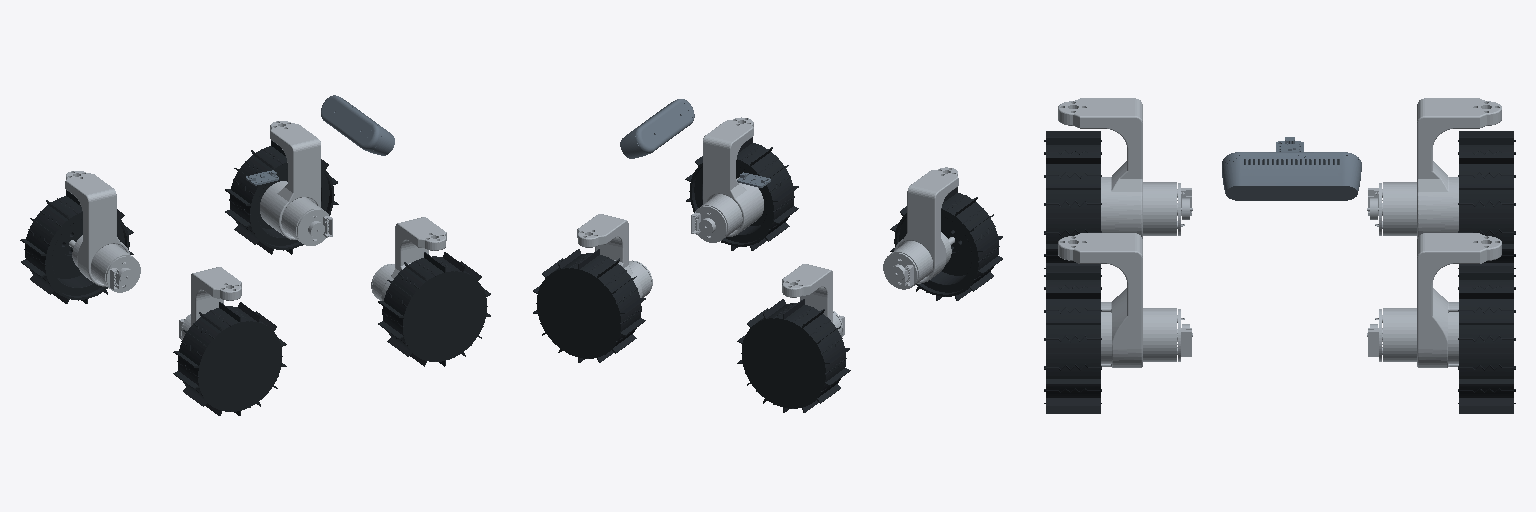
The robot description file, URDF, robot "rover":
<?xml version='1.0' encoding='utf-8'?>
<robot name="rover">
  <!-- Measured masses; approximate inertia, collision, limits and motor ratings. See config/model.json. -->
  <link name="base_link">
    <inertial>
      <origin xyz="0.00644967329592 0.000243242209539 -0.0339474125033" rpy="0 0 0" />
      <mass value="0.7918999999999999" />
      <inertia ixx="0.001909431615532285" iyy="0.0032101804416144707" izz="0.004528382075789804" ixy="-1.9881943002105715e-05" ixz="9.94823399427369e-05" iyz="1.4959653956675958e-05" />
    </inertial>
    <visual>
      <origin xyz="0 0 0" rpy="0 0 0" />
      <geometry>
        <mesh filename="package://rover_description/meshes/base_link.stl" />
      </geometry>
      <material name="base_link_material">
        <color rgba="0.7 0.73 0.76 1" />
      </material>
    </visual>
    <collision name="base_link_collision_0">
      <origin xyz="-0.005 0 -0.0239999997616" rpy="0 0 0" />
      <geometry>
        <box size="0.23 0.17 0.0879999995232" />
      </geometry>
    </collision>
    <collision name="base_link_collision_1">
      <origin xyz="0.0244377458561 -0.0148750001192 -0.048800002492" rpy="0 0 0" />
      <geometry>
        <box size="0.113224513624 0.0631499993801 0.0284000003338" />
      </geometry>
    </collision>
    <collision name="base_link_collision_2">
      <origin xyz="-0.00773000001907 0.0541699981689 -0.0322500003939" rpy="0 0 0" />
      <geometry>
        <box size="0.0482600021362 0.0416599988937 0.0114999997616" />
      </geometry>
    </collision>
    <collision name="base_link_collision_3">
      <origin xyz="-0.0509100008011 0.0541699981689 -0.0187499965792" rpy="0 0 0" />
      <geometry>
        <box size="0.0482600021362 0.0416599988937 0.0114999997616" />
      </geometry>
    </collision>
    <collision name="base_link_collision_4">
      <origin xyz="0.0734050011635 0.0276300001144 -0.0281510843401" rpy="0 0 0" />
      <geometry>
        <box size="0.0571899986267 0.0890399980545 0.0337874209881" />
      </geometry>
    </collision>
    <collision name="base_link_collision_5">
      <origin xyz="-0.026859998703 -0.0375 -0.0300000004272" rpy="0 0 0" />
      <geometry>
        <box size="0.0825 0.07 0.02" />
      </geometry>
    </collision>
    <collision name="base_link_collision_6">
      <origin xyz="-0.0215899991989 -0.0447100019455 -0.0257500042086" rpy="0 0 0" />
      <geometry>
        <box size="0.0482600021362 0.0416599988937 0.0114999997616" />
      </geometry>
    </collision>
    <collision name="base_link_collision_7">
      <origin xyz="0.0425490000844 -0.0263399982452 -0.00244000271606" rpy="0 0 0" />
      <geometry>
        <box size="0.0158499997854 0.0673099994659 0.0388619995117" />
      </geometry>
    </collision>
  </link>
  <link name="left_rocker_link">
    <inertial>
      <origin xyz="-1.96512358754e-06 0.0404127009788 -0.0221390723934" rpy="0 0 0" />
      <mass value="0.1862" />
      <inertia ixx="8.666660545120629e-05" iyy="0.0011983101518448112" izz="0.0012067950674906668" ixy="3.2713165345640206e-09" ixz="-1.6017981258213376e-09" iyz="2.4807897206100384e-05" />
    </inertial>
    <visual>
      <origin xyz="0 0 0" rpy="0 0 0" />
      <geometry>
        <mesh filename="package://rover_description/meshes/left_rocker_link.stl" />
      </geometry>
      <material name="left_rocker_link_material">
        <color rgba="0.7 0.73 0.76 1" />
      </material>
    </visual>
    <collision name="left_rocker_link_collision_0">
      <origin xyz="0 0.0275 -0.0124653096561" rpy="0 0 0" />
      <geometry>
        <box size="0.235862789154 0.075 0.0647104144096" />
      </geometry>
    </collision>
    <collision name="left_rocker_link_collision_1">
      <origin xyz="-0.0899313926697 0.0475 -0.0264439971809" rpy="0 0 0" />
      <geometry>
        <box size="0.0452234077454 0.0247234082222 0.0424314928055" />
      </geometry>
    </collision>
    <collision name="left_rocker_link_collision_2">
      <origin xyz="0.0899313926697 0.0475 -0.0264439971809" rpy="0 0 0" />
      <geometry>
        <box size="0.0452234077454 0.0247234082222 0.0424314928055" />
      </geometry>
    </collision>
  </link>
  <link name="right_rocker_link">
    <inertial>
      <origin xyz="1.94316414914e-06 -0.0404283017018 -0.0220823770754" rpy="0 0 0" />
      <mass value="0.1862" />
      <inertia ixx="8.650089899194938e-05" iyy="0.0011965483799196736" izz="0.0012046835159321599" ixy="3.2952114428350772e-09" ixz="1.6044542867014414e-09" iyz="-2.471970044671573e-05" />
    </inertial>
    <visual>
      <origin xyz="0 0 0" rpy="0 0 0" />
      <geometry>
        <mesh filename="package://rover_description/meshes/right_rocker_link.stl" />
      </geometry>
      <material name="right_rocker_link_material">
        <color rgba="0.7 0.73 0.76 1" />
      </material>
    </visual>
    <collision name="right_rocker_link_collision_0">
      <origin xyz="0 -0.0275 -0.0124653096561" rpy="0 0 0" />
      <geometry>
        <box size="0.235862789154 0.075 0.0647104144096" />
      </geometry>
    </collision>
    <collision name="right_rocker_link_collision_1">
      <origin xyz="-0.0899313926697 -0.0475 -0.0264439971809" rpy="0 0 0" />
      <geometry>
        <box size="0.0452234077454 0.0247234082222 0.0424314928055" />
      </geometry>
    </collision>
    <collision name="right_rocker_link_collision_2">
      <origin xyz="0.0899313926697 -0.0475 -0.0264439971809" rpy="0 0 0" />
      <geometry>
        <box size="0.0452234077454 0.0247234082222 0.0424314928055" />
      </geometry>
    </collision>
  </link>
  <link name="fl_steering_link">
    <inertial>
      <origin xyz="-0.00670056574896 -0.0384631897972 -0.0654837671094" rpy="0 0 0" />
      <mass value="0.2248" />
      <inertia ixx="0.0001226757368000996" iyy="7.724551971910217e-05" izz="8.334267425727737e-05" ixy="1.5756607719618126e-08" ixz="-5.337243072904947e-06" iyz="-8.331574215117048e-06" />
    </inertial>
    <visual>
      <origin xyz="0 0 0" rpy="0 0 0" />
      <geometry>
        <mesh filename="package://rover_description/meshes/fl_steering_link.stl" />
      </geometry>
      <material name="fl_steering_link_material">
        <color rgba="0.7 0.73 0.76 1" />
      </material>
    </visual>
    <collision name="fl_steering_link_collision_0">
      <origin xyz="-0.00699947595596 -0.0172594672441 -0.0451248784428" rpy="0 0 0" />
      <geometry>
        <box size="0.0424990367889 0.054421056509 0.0902497506142" />
      </geometry>
    </collision>
    <collision name="fl_steering_link_collision_1">
      <origin xyz="-0.00700000047684 -0.0336200046539 -0.0690000034933" rpy="0 0 0" />
      <geometry>
        <box size="0.037000002861 0.0863000011444 0.0369999992847" />
      </geometry>
    </collision>
  </link>
  <link name="fl_wheel_link">
    <inertial>
      <origin xyz="1.35343650632e-08 1.1917175737e-08 -0.00459089788381" rpy="0 0 0" />
      <mass value="0.0471" />
      <inertia ixx="3.199444361048369e-05" iyy="3.1994437039815096e-05" izz="5.5452185502320546e-05" ixy="2.3586900959527922e-12" ixz="1.1558987979295715e-11" iyz="3.1864596805634047e-12" />
    </inertial>
    <visual>
      <origin xyz="0 0 0" rpy="0 0 0" />
      <geometry>
        <mesh filename="package://rover_description/meshes/fl_wheel_link.stl" />
      </geometry>
      <material name="fl_wheel_link_material">
        <color rgba="0.18 0.2 0.22 1" />
      </material>
    </visual>
    <collision name="fl_wheel_link_collision_0">
      <origin xyz="0 0 -0.00953124761581" rpy="0 0 0" />
      <geometry>
        <cylinder radius="0.047503017451047395" length="0.0371875" />
      </geometry>
    </collision>
  </link>
  <link name="fr_steering_link">
    <inertial>
      <origin xyz="-0.0067005643948 0.0384631918851 -0.0654836128865" rpy="0 0 0" />
      <mass value="0.2248" />
      <inertia ixx="0.00012267563539099382" iyy="7.724543161738496e-05" izz="8.334268289595729e-05" ixy="-1.5754924350360554e-08" ixz="-5.3369663779219846e-06" iyz="8.330564060356987e-06" />
    </inertial>
    <visual>
      <origin xyz="0 0 0" rpy="0 0 0" />
      <geometry>
        <mesh filename="package://rover_description/meshes/fr_steering_link.stl" />
      </geometry>
      <material name="fr_steering_link_material">
        <color rgba="0.7 0.73 0.76 1" />
      </material>
    </visual>
    <collision name="fr_steering_link_collision_0">
      <origin xyz="-0.00699948072433 0.0172594672441 -0.0451248784428" rpy="0 0 0" />
      <geometry>
        <box size="0.0424990272522 0.054421056509 0.0902497506142" />
      </geometry>
    </collision>
    <collision name="fr_steering_link_collision_1">
      <origin xyz="-0.00700000047684 0.0336200046539 -0.0690000058775" rpy="0 0 0" />
      <geometry>
        <box size="0.037000002861 0.0863000011444 0.0369999992847" />
      </geometry>
    </collision>
  </link>
  <link name="fr_wheel_link">
    <inertial>
      <origin xyz="-1.35343650632e-08 1.1917175737e-08 0.00459089788381" rpy="0 0 0" />
      <mass value="0.0471" />
      <inertia ixx="3.199444361048369e-05" iyy="3.1994437039815096e-05" izz="5.5452185502320546e-05" ixy="-2.3586900959527922e-12" ixz="1.1558987979295715e-11" iyz="-3.1864596805634047e-12" />
    </inertial>
    <visual>
      <origin xyz="0 0 0" rpy="0 0 0" />
      <geometry>
        <mesh filename="package://rover_description/meshes/fr_wheel_link.stl" />
      </geometry>
      <material name="fr_wheel_link_material">
        <color rgba="0.18 0.2 0.22 1" />
      </material>
    </visual>
    <collision name="fr_wheel_link_collision_0">
      <origin xyz="0 0 0.00953124761581" rpy="0 0 0" />
      <geometry>
        <cylinder radius="0.047503017451047395" length="0.03718750000000004" />
      </geometry>
    </collision>
  </link>
  <link name="rl_steering_link">
    <inertial>
      <origin xyz="0.0067005643948 -0.0384631918851 -0.0654836128865" rpy="0 0 0" />
      <mass value="0.2248" />
      <inertia ixx="0.00012267563539099436" iyy="7.72454316173857e-05" izz="8.334268289595731e-05" ixy="-1.575492435035473e-08" ixz="5.336966377922043e-06" iyz="-8.330564060357184e-06" />
    </inertial>
    <visual>
      <origin xyz="0 0 0" rpy="0 0 0" />
      <geometry>
        <mesh filename="package://rover_description/meshes/rl_steering_link.stl" />
      </geometry>
      <material name="rl_steering_link_material">
        <color rgba="0.7 0.73 0.76 1" />
      </material>
    </visual>
    <collision name="rl_steering_link_collision_0">
      <origin xyz="0.00699948072433 -0.0172594672441 -0.0451248784428" rpy="0 0 0" />
      <geometry>
        <box size="0.0424990272522 0.054421056509 0.0902497506142" />
      </geometry>
    </collision>
    <collision name="rl_steering_link_collision_1">
      <origin xyz="0.00700000047684 -0.0336200046539 -0.0690000058775" rpy="0 0 0" />
      <geometry>
        <box size="0.037000002861 0.0863000011444 0.0369999992847" />
      </geometry>
    </collision>
  </link>
  <link name="rl_wheel_link">
    <inertial>
      <origin xyz="1.35343650632e-08 1.1917175737e-08 -0.00459089788381" rpy="0 0 0" />
      <mass value="0.0471" />
      <inertia ixx="3.199444361048369e-05" iyy="3.1994437039815096e-05" izz="5.5452185502320546e-05" ixy="2.3586900959527922e-12" ixz="1.1558987979295715e-11" iyz="3.1864596805634047e-12" />
    </inertial>
    <visual>
      <origin xyz="0 0 0" rpy="0 0 0" />
      <geometry>
        <mesh filename="package://rover_description/meshes/rl_wheel_link.stl" />
      </geometry>
      <material name="rl_wheel_link_material">
        <color rgba="0.18 0.2 0.22 1" />
      </material>
    </visual>
    <collision name="rl_wheel_link_collision_0">
      <origin xyz="0 0 -0.00953124761581" rpy="0 0 0" />
      <geometry>
        <cylinder radius="0.047503017451047395" length="0.0371875" />
      </geometry>
    </collision>
  </link>
  <link name="rr_steering_link">
    <inertial>
      <origin xyz="0.00670056574896 0.0384631897972 -0.0654837671094" rpy="0 0 0" />
      <mass value="0.2248" />
      <inertia ixx="0.00012267573680009998" iyy="7.724551971910256e-05" izz="8.334267425727752e-05" ixy="1.575660771961241e-08" ixz="5.33724307290501e-06" iyz="8.331574215117345e-06" />
    </inertial>
    <visual>
      <origin xyz="0 0 0" rpy="0 0 0" />
      <geometry>
        <mesh filename="package://rover_description/meshes/rr_steering_link.stl" />
      </geometry>
      <material name="rr_steering_link_material">
        <color rgba="0.7 0.73 0.76 1" />
      </material>
    </visual>
    <collision name="rr_steering_link_collision_0">
      <origin xyz="0.00699947595596 0.0172594672441 -0.0451248784428" rpy="0 0 0" />
      <geometry>
        <box size="0.0424990367889 0.054421056509 0.0902497506142" />
      </geometry>
    </collision>
    <collision name="rr_steering_link_collision_1">
      <origin xyz="0.00700000047684 0.0336200046539 -0.0690000034933" rpy="0 0 0" />
      <geometry>
        <box size="0.037000002861 0.0863000011444 0.0369999992847" />
      </geometry>
    </collision>
  </link>
  <link name="rr_wheel_link">
    <inertial>
      <origin xyz="-1.35343650632e-08 1.1917175737e-08 0.00459089788381" rpy="0 0 0" />
      <mass value="0.0471" />
      <inertia ixx="3.199444361048369e-05" iyy="3.1994437039815096e-05" izz="5.5452185502320546e-05" ixy="-2.3586900959527922e-12" ixz="1.1558987979295715e-11" iyz="-3.1864596805634047e-12" />
    </inertial>
    <visual>
      <origin xyz="0 0 0" rpy="0 0 0" />
      <geometry>
        <mesh filename="package://rover_description/meshes/rr_wheel_link.stl" />
      </geometry>
      <material name="rr_wheel_link_material">
        <color rgba="0.18 0.2 0.22 1" />
      </material>
    </visual>
    <collision name="rr_wheel_link_collision_0">
      <origin xyz="0 0 0.00953124761581" rpy="0 0 0" />
      <geometry>
        <cylinder radius="0.047503017451047395" length="0.03718750000000001" />
      </geometry>
    </collision>
  </link>
  <link name="camera_link">
    <inertial>
      <origin xyz="-0.0128694249701 0.00749993845949 -0.000111432996229" rpy="0 0 0" />
      <mass value="0.072" />
      <inertia ixx="4.514190213443471e-05" iyy="6.753472319053048e-06" izz="4.552680228004904e-05" ixy="6.827631166437737e-11" ixz="2.839270239439878e-08" iyz="-4.6046756940200406e-11" />
    </inertial>
    <visual>
      <origin xyz="0 0 0" rpy="0 0 0" />
      <geometry>
        <mesh filename="package://rover_description/meshes/camera_link.stl" />
      </geometry>
      <material name="camera_link_material">
        <color rgba="0.45 0.5 0.55 1" />
      </material>
    </visual>
    <collision name="camera_link_collision_0">
      <origin xyz="-0.0125 0.0075000038147 2.88486480708e-07" rpy="0 0 0" />
      <geometry>
        <box size="0.025 0.0899999923706 0.025000702858" />
      </geometry>
    </collision>
  </link>
  <link name="imu_link">
    <inertial>
      <origin xyz="-0.006458225547 0.0101999383282 0.00111494988099" rpy="0 0 0" />
      <mass value="0.0024" />
      <inertia ixx="1.366030785264021e-07" iyy="5.6100279484841645e-08" izz="1.8858762229909324e-07" ixy="1.5071233702173367e-10" ixz="5.50310477147598e-12" iyz="-1.1488906387481262e-10" />
    </inertial>
    <visual>
      <origin xyz="0 0 0" rpy="0 0 0" />
      <geometry>
        <mesh filename="package://rover_description/meshes/imu_link.stl" />
      </geometry>
      <material name="imu_link_material">
        <color rgba="0.45 0.5 0.55 1" />
      </material>
    </visual>
    <collision name="imu_link_collision_0">
      <origin xyz="-0.00634999990463 0.0101600003242 0.00236750006676" rpy="0 0 0" />
      <geometry>
        <box size="0.017779999733 0.0254000005722 0.00473500013351" />
      </geometry>
    </collision>
  </link>
  <link name="camera_depth_frame" />
  <link name="camera_infra1_frame" />
  <link name="camera_infra2_frame" />
  <link name="camera_stereo_center_frame" />
  <link name="imu_sensor_frame" />
  <link name="camera_depth_optical_frame" />
  <link name="camera_infra1_optical_frame" />
  <link name="camera_infra2_optical_frame" />
  <link name="camera_stereo_center_optical_frame" />
  <joint name="left_rocker_joint" type="revolute">
    <parent link="base_link" />
    <child link="left_rocker_link" />
    <origin xyz="-5.22457895888e-19 0.085 0" rpy="0 0 0" />
    <axis xyz="0 1 0" />
    <limit effort="0" velocity="3" lower="-0.5235987755982988" upper="0.5235987755982988" />
    <dynamics damping="0.01" friction="0" />
  </joint>
  <joint name="right_rocker_joint" type="revolute">
    <parent link="base_link" />
    <child link="right_rocker_link" />
    <origin xyz="-5.22457895888e-19 -0.085 0" rpy="0 0 0" />
    <axis xyz="0 1 0" />
    <limit effort="0" velocity="3" lower="-0.5235987755982988" upper="0.5235987755982988" />
    <dynamics damping="0.01" friction="0" />
    <mimic joint="left_rocker_joint" multiplier="-1" offset="0" />
  </joint>
  <joint name="fl_steering_joint" type="revolute">
    <parent link="left_rocker_link" />
    <child link="fl_steering_link" />
    <origin xyz="0.10243139267 0.0475 -0.045313243866" rpy="0 0 0" />
    <axis xyz="0 0 1" />
    <limit effort="2.942" velocity="4.0" lower="-1.5707963267948966" upper="1.5707963267948966" />
    <dynamics damping="0.01" friction="0" />
  </joint>
  <joint name="fl_wheel_joint" type="continuous">
    <parent link="fl_steering_link" />
    <child link="fl_wheel_link" />
    <origin xyz="0 0.00953000068665 -0.0689999961853" rpy="-1.57079632679 0 0" />
    <axis xyz="0 0 1" />
    <limit effort="1.0" velocity="8.0" />
    <dynamics damping="0.001" friction="0" />
  </joint>
  <joint name="fr_steering_joint" type="revolute">
    <parent link="right_rocker_link" />
    <child link="fr_steering_link" />
    <origin xyz="0.10243139267 -0.0475 -0.045313243866" rpy="0 0 0" />
    <axis xyz="0 0 1" />
    <limit effort="2.942" velocity="4.0" lower="-1.5707963267948966" upper="1.5707963267948966" />
    <dynamics damping="0.01" friction="0" />
  </joint>
  <joint name="fr_wheel_joint" type="continuous">
    <parent link="fr_steering_link" />
    <child link="fr_wheel_link" />
    <origin xyz="0 -0.00953000068665 -0.0689999961853" rpy="-1.57079632679 0 0" />
    <axis xyz="0 0 1" />
    <limit effort="1.0" velocity="8.0" />
    <dynamics damping="0.001" friction="0" />
  </joint>
  <joint name="rl_steering_joint" type="revolute">
    <parent link="left_rocker_link" />
    <child link="rl_steering_link" />
    <origin xyz="-0.10243139267 0.0475 -0.045313243866" rpy="0 0 0" />
    <axis xyz="0 0 1" />
    <limit effort="2.942" velocity="4.0" lower="-1.5707963267948966" upper="1.5707963267948966" />
    <dynamics damping="0.01" friction="0" />
  </joint>
  <joint name="rl_wheel_joint" type="continuous">
    <parent link="rl_steering_link" />
    <child link="rl_wheel_link" />
    <origin xyz="0 0.00953000068665 -0.0689999961853" rpy="-1.57079632679 0 0" />
    <axis xyz="0 0 1" />
    <limit effort="1.0" velocity="8.0" />
    <dynamics damping="0.001" friction="0" />
  </joint>
  <joint name="rr_steering_joint" type="revolute">
    <parent link="right_rocker_link" />
    <child link="rr_steering_link" />
    <origin xyz="-0.10243139267 -0.0475 -0.045313243866" rpy="0 0 0" />
    <axis xyz="0 0 1" />
    <limit effort="2.942" velocity="4.0" lower="-1.5707963267948966" upper="1.5707963267948966" />
    <dynamics damping="0.01" friction="0" />
  </joint>
  <joint name="rr_wheel_joint" type="continuous">
    <parent link="rr_steering_link" />
    <child link="rr_wheel_link" />
    <origin xyz="0 -0.00953000068665 -0.0689999961853" rpy="-1.57079632679 0 0" />
    <axis xyz="0 0 1" />
    <limit effort="1.0" velocity="8.0" />
    <dynamics damping="0.001" friction="0" />
  </joint>
  <joint name="camera_link_joint" type="fixed">
    <parent link="base_link" />
    <child link="camera_link" />
    <origin xyz="0.116619 0 -0.004122" rpy="0 0.610865238198 0" />
  </joint>
  <joint name="imu_link_joint" type="fixed">
    <parent link="base_link" />
    <child link="imu_link" />
    <origin xyz="0 0 -0.0246" rpy="0 0 -1.57079632679" />
  </joint>
  <joint name="camera_depth_frame_joint" type="fixed">
    <parent link="camera_link" />
    <child link="camera_depth_frame" />
    <origin xyz="-0.0043 0.025 0" rpy="0 0 0" />
  </joint>
  <joint name="camera_infra1_frame_joint" type="fixed">
    <parent link="camera_link" />
    <child link="camera_infra1_frame" />
    <origin xyz="-0.0043 0.025 0" rpy="0 0 0" />
  </joint>
  <joint name="camera_infra2_frame_joint" type="fixed">
    <parent link="camera_link" />
    <child link="camera_infra2_frame" />
    <origin xyz="-0.0043 -0.025 0" rpy="0 0 0" />
  </joint>
  <joint name="camera_stereo_center_frame_joint" type="fixed">
    <parent link="camera_link" />
    <child link="camera_stereo_center_frame" />
    <origin xyz="-0.0043 0 0" rpy="0 0 0" />
  </joint>
  <joint name="imu_sensor_frame_joint" type="fixed">
    <parent link="imu_link" />
    <child link="imu_sensor_frame" />
    <origin xyz="0 0 0" rpy="0 0 0" />
  </joint>
  <joint name="camera_depth_optical_frame_joint" type="fixed">
    <parent link="camera_depth_frame" />
    <child link="camera_depth_optical_frame" />
    <origin xyz="0 0 0" rpy="-1.57079632679 0 -1.57079632679" />
  </joint>
  <joint name="camera_infra1_optical_frame_joint" type="fixed">
    <parent link="camera_infra1_frame" />
    <child link="camera_infra1_optical_frame" />
    <origin xyz="0 0 0" rpy="-1.57079632679 0 -1.57079632679" />
  </joint>
  <joint name="camera_infra2_optical_frame_joint" type="fixed">
    <parent link="camera_infra2_frame" />
    <child link="camera_infra2_optical_frame" />
    <origin xyz="0 0 0" rpy="-1.57079632679 0 -1.57079632679" />
  </joint>
  <joint name="camera_stereo_center_optical_frame_joint" type="fixed">
    <parent link="camera_stereo_center_frame" />
    <child link="camera_stereo_center_optical_frame" />
    <origin xyz="0 0 0" rpy="-1.57079632679 0 -1.57079632679" />
  </joint>
</robot>

--- Facts derived from the render (not from the file) ---
Views: 3 orthographic renders of the robot side by side, from view 1: azimuth 30°, elevation 25°; view 2: azimuth 150°, elevation 25°; view 3: azimuth 270°, elevation 25°.
Robot: rover — 22 links, 21 joints (6 revolute, 4 continuous, 11 fixed); root link base_link; default pose: every joint at zero.
Links seen in each view (by area): view 1: fr_wheel_link, rr_wheel_link, fl_steering_link, rl_wheel_link, rl_steering_link, fl_wheel_link, fr_steering_link, camera_link, rr_steering_link; view 2: fl_wheel_link, rl_wheel_link, fr_steering_link, rr_wheel_link, rr_steering_link, fr_wheel_link, fl_steering_link, camera_link, rl_steering_link; view 3: fl_steering_link, fr_steering_link, rl_steering_link, rr_steering_link, fl_wheel_link, fr_wheel_link, camera_link, rl_wheel_link, rr_wheel_link.
Boxes of the visible links, x1=… form: fr_wheel_link: x1=378, y1=252, x2=490, y2=366; rr_wheel_link: x1=173, y1=302, x2=286, y2=415; fl_steering_link: x1=260, y1=121, x2=332, y2=245; rl_wheel_link: x1=20, y1=190, x2=133, y2=303; rl_steering_link: x1=65, y1=171, x2=140, y2=292; fl_wheel_link: x1=225, y1=140, x2=338, y2=254; fr_steering_link: x1=371, y1=217, x2=446, y2=300; camera_link: x1=321, y1=95, x2=394, y2=155; rr_steering_link: x1=179, y1=267, x2=241, y2=339; fl_wheel_link: x1=533, y1=249, x2=645, y2=362; rl_wheel_link: x1=737, y1=299, x2=850, y2=412; fr_steering_link: x1=691, y1=117, x2=763, y2=242; rr_wheel_link: x1=890, y1=187, x2=1002, y2=300; rr_steering_link: x1=883, y1=167, x2=958, y2=289; fr_wheel_link: x1=685, y1=137, x2=798, y2=250; fl_steering_link: x1=577, y1=214, x2=652, y2=297; camera_link: x1=620, y1=99, x2=694, y2=158; rl_steering_link: x1=782, y1=264, x2=844, y2=336; fl_steering_link: x1=1367, y1=233, x2=1501, y2=367; fr_steering_link: x1=1058, y1=233, x2=1192, y2=367; rl_steering_link: x1=1367, y1=98, x2=1501, y2=238; rr_steering_link: x1=1058, y1=98, x2=1192, y2=238; fl_wheel_link: x1=1458, y1=266, x2=1515, y2=413; fr_wheel_link: x1=1044, y1=266, x2=1101, y2=413; camera_link: x1=1222, y1=152, x2=1361, y2=200; rl_wheel_link: x1=1458, y1=131, x2=1515, y2=268; rr_wheel_link: x1=1044, y1=131, x2=1101, y2=268.
Bounding box of the posed robot: 0.2977 × 0.3022 × 0.1809 m (x, y, z).
Meshes: 13 distinct files referenced, 10 mesh visuals loaded (10 binary STL); not drawn: 2 (reference not matched to a file when rendering), 1 (file found but could not be loaded).
